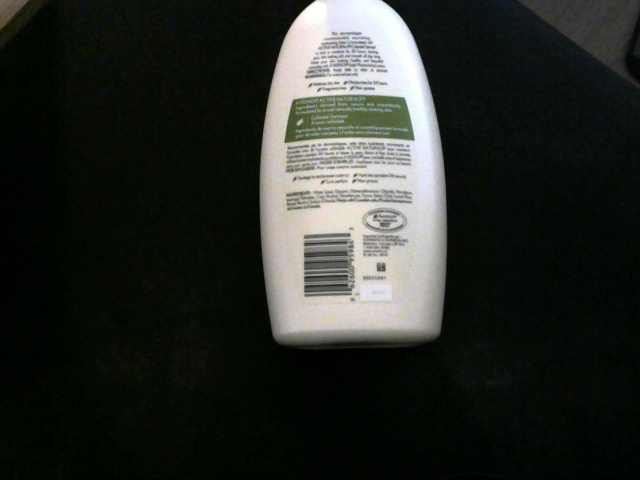Barcode: (302, 231, 355, 299)
